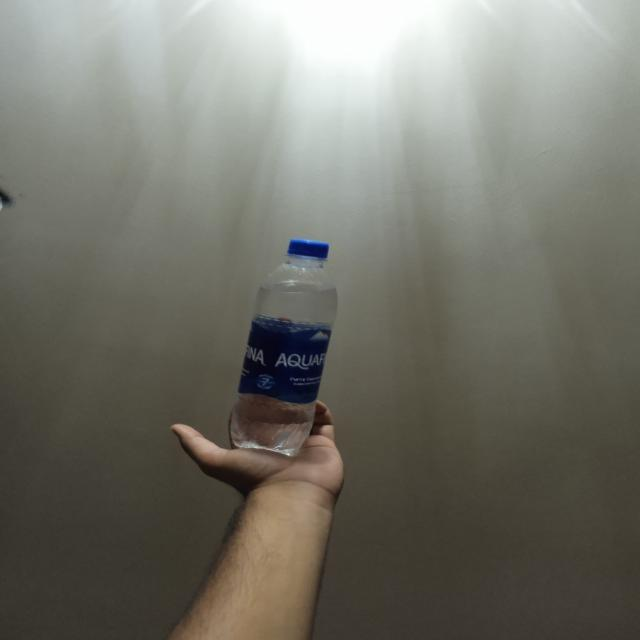Plastic: (233, 237, 334, 451)
